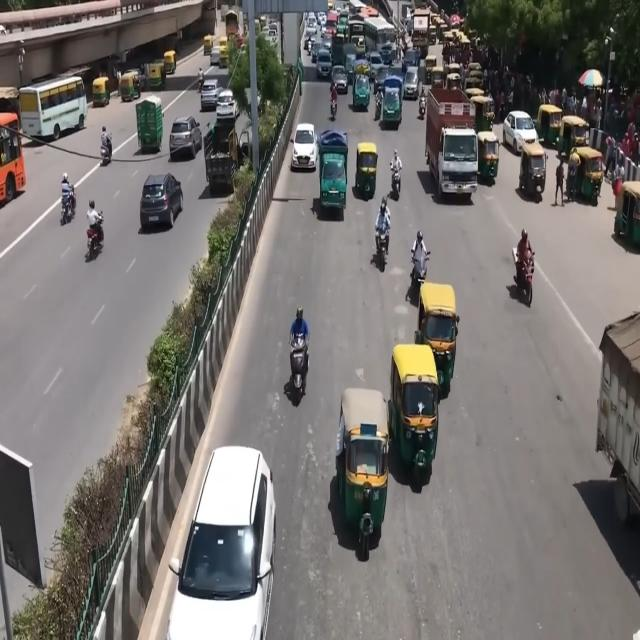auto: (335, 387, 390, 542), (389, 345, 441, 478), (416, 283, 459, 392), (568, 145, 604, 204), (614, 180, 640, 250), (519, 142, 547, 200), (476, 130, 501, 184), (558, 115, 588, 160), (355, 142, 378, 199), (536, 103, 563, 148), (119, 70, 141, 102), (146, 59, 165, 91), (92, 76, 110, 108), (163, 50, 177, 76), (424, 54, 437, 82), (430, 66, 445, 90), (218, 36, 229, 68), (204, 34, 214, 56)
bike-auto: (289, 305, 309, 388), (86, 199, 104, 250), (375, 199, 391, 252), (411, 230, 428, 279), (516, 230, 534, 276), (521, 255, 535, 306), (61, 172, 74, 217), (554, 158, 566, 206), (390, 148, 402, 194), (566, 158, 578, 202), (100, 125, 111, 162), (375, 89, 383, 120), (418, 93, 427, 118), (330, 90, 338, 118), (198, 66, 204, 92)
